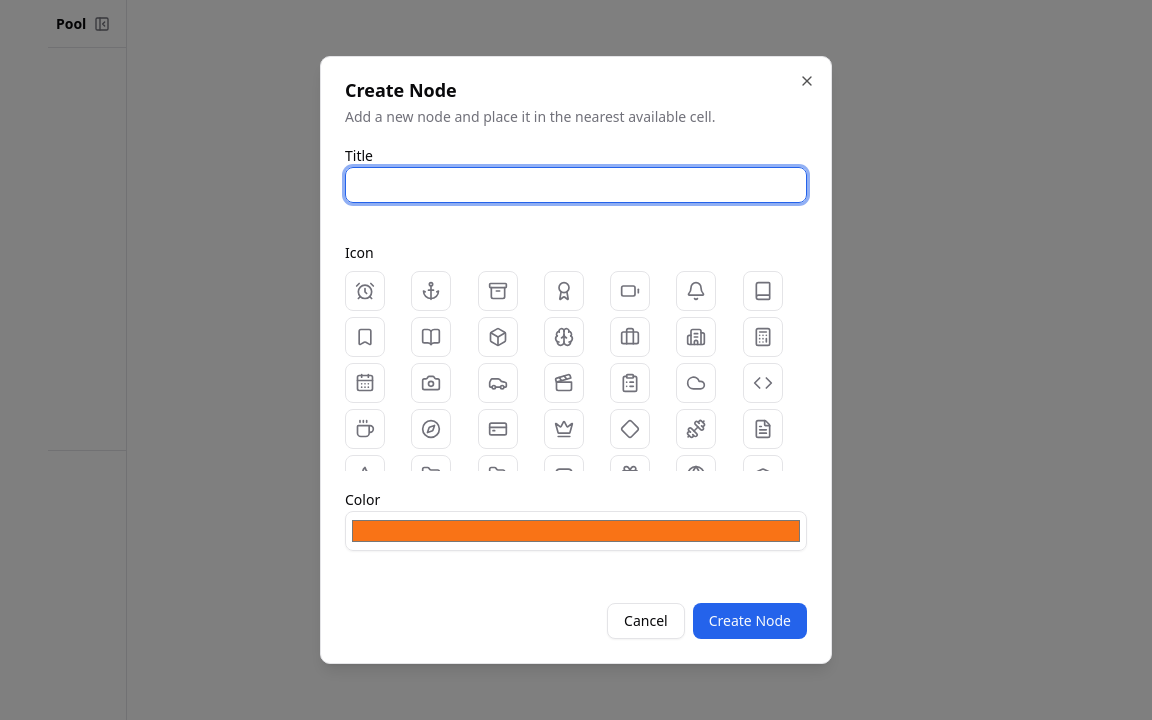
Test: CalendarLayout node creation › closes dialog after successful create
Expected: the dialog is shown, [320,56,832,664]
Type "My Node" into the field labelled "Title". click: x=576, y=185
box: [345,167,807,203]
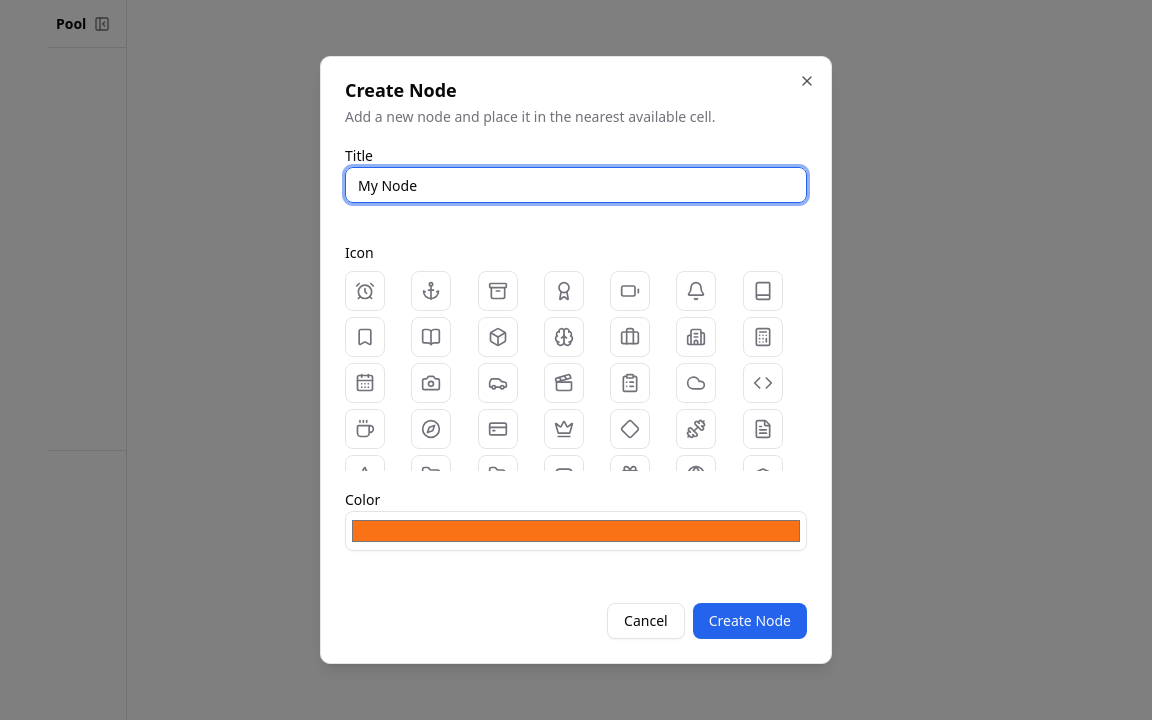
Click the button "Create Node". click: x=750, y=621
box: [693,603,807,639]
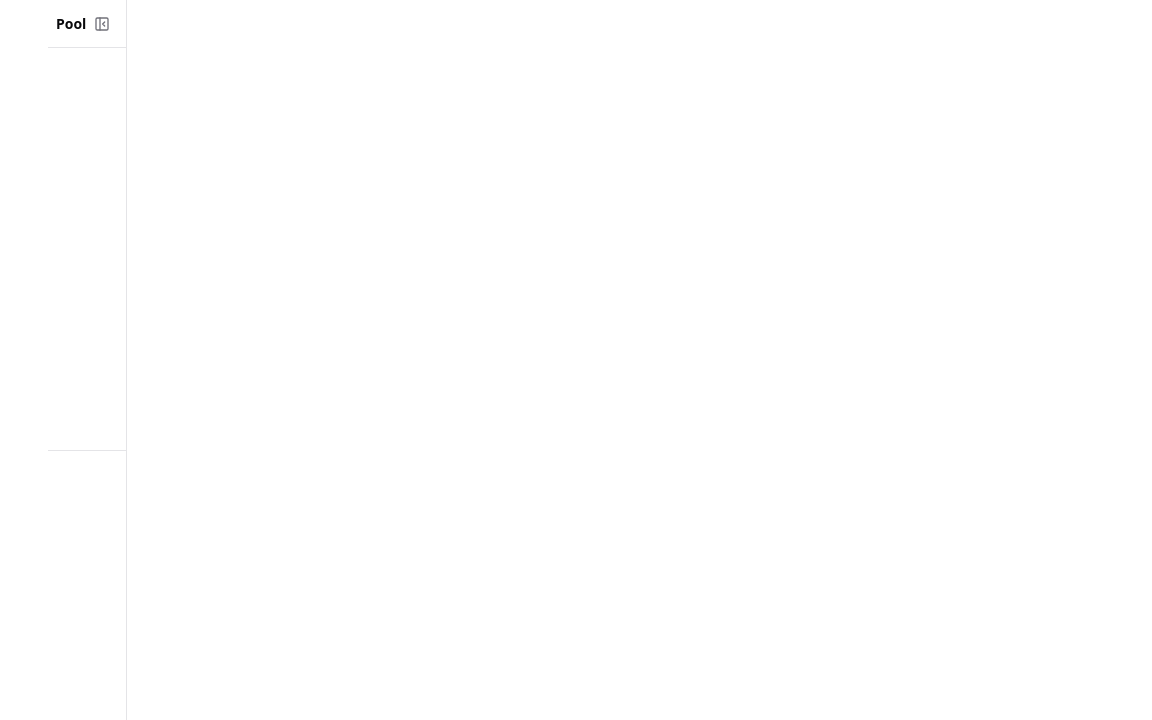
Expected: the dialog is gone
